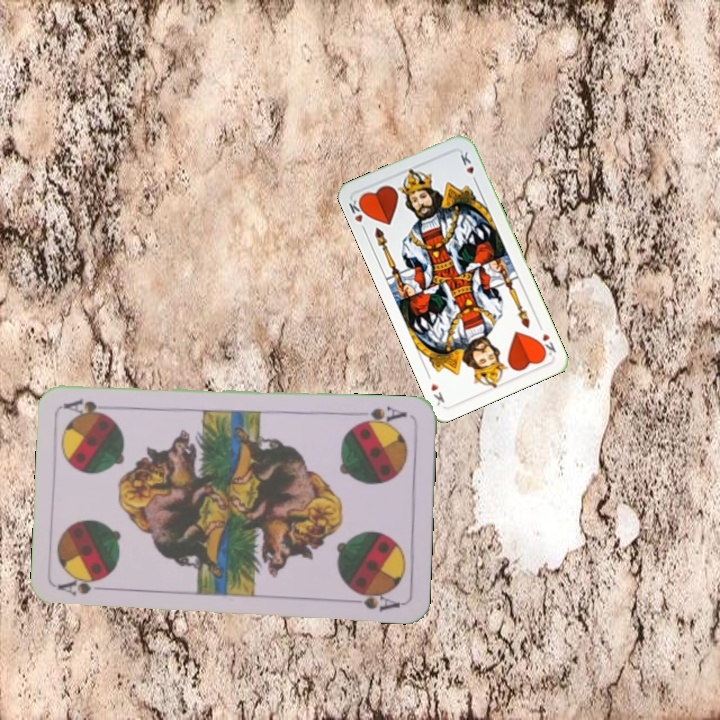HK: (345, 194, 370, 235), (534, 320, 559, 360)
SA: (352, 402, 409, 429), (55, 575, 114, 599)
